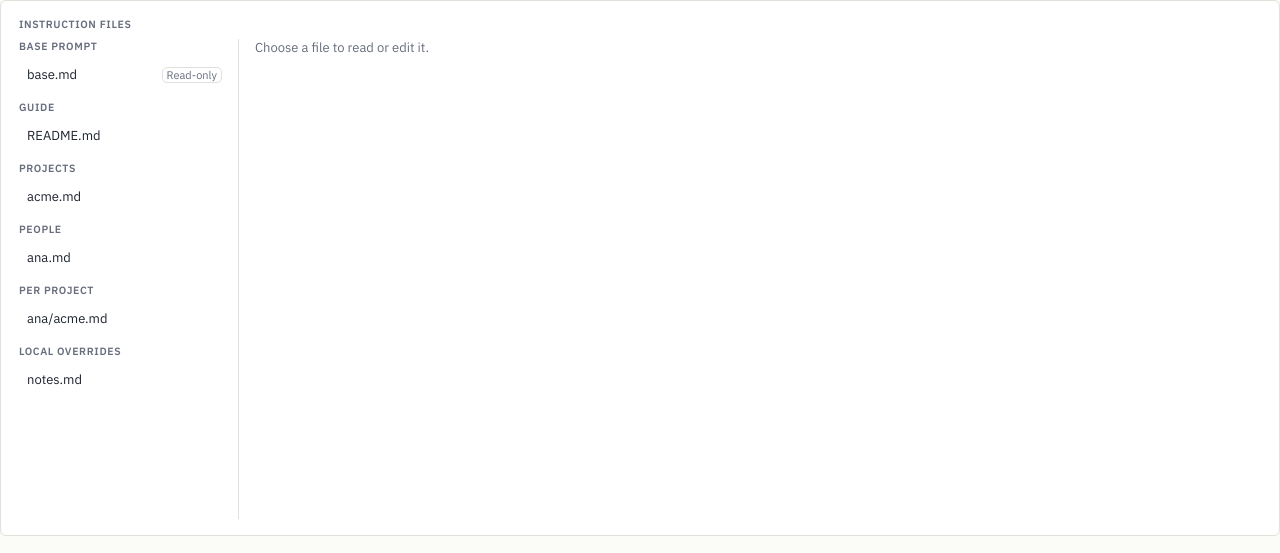
Test: a read-only file opens in Preview only, with the note and no toggle or Save
What coordinates should you click on to do the following:
click the button "base.md Read-only"
I would click on:
 (124, 74)
Its box is [19,61,230,88].
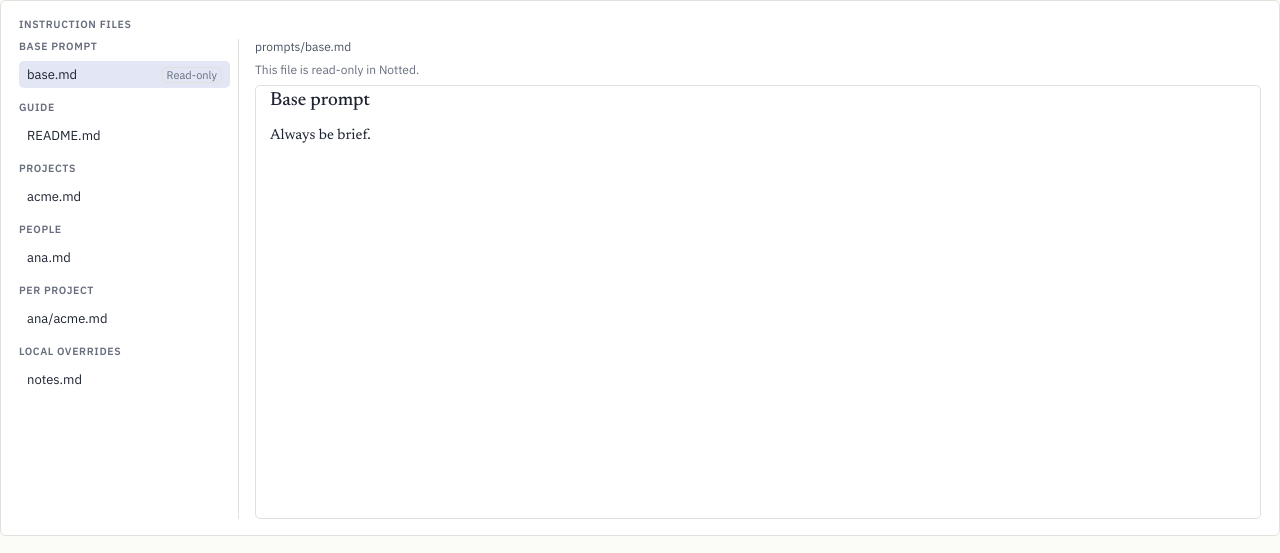
Expected: the heading "Base prompt" is shown, [270,91,370,110]
Expected: the text "This file is read-only in Notted." is shown, [255,62,419,77]
Expected: the text "edit" is gone
